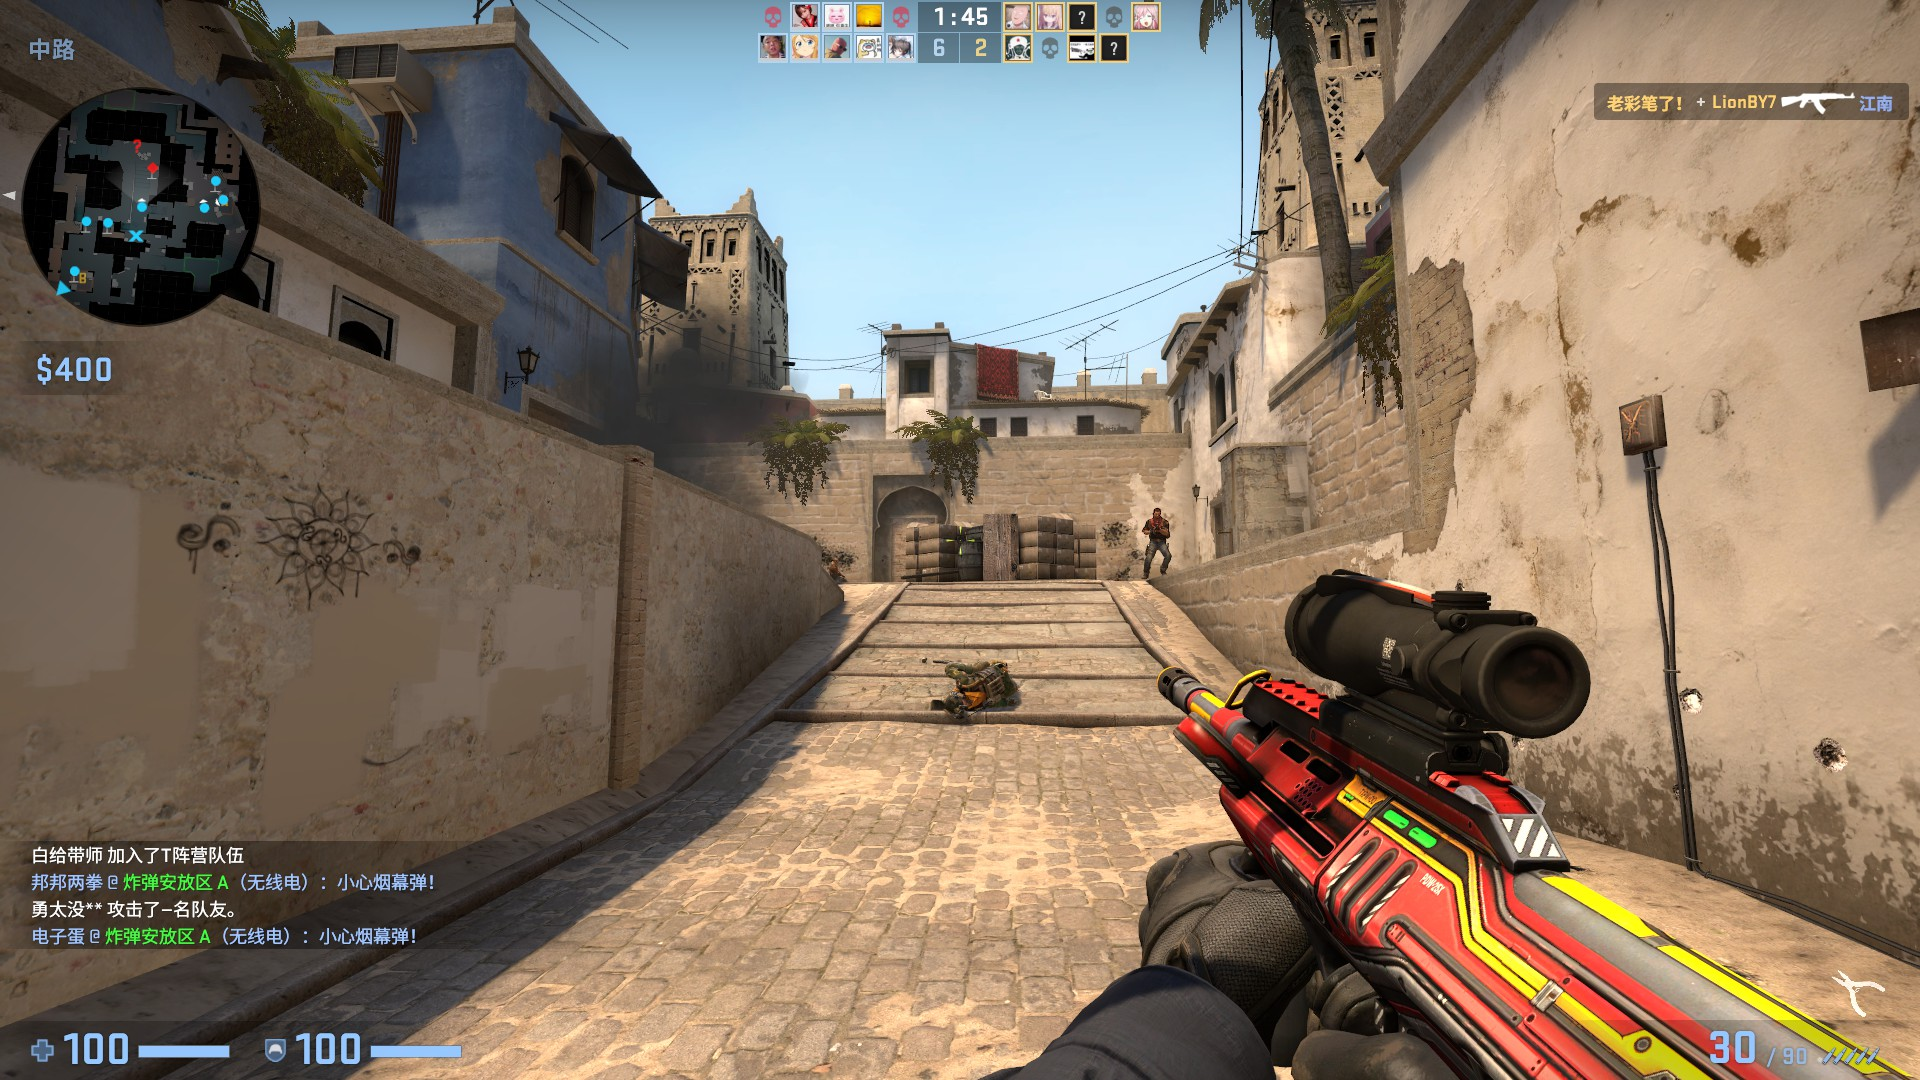head: (941, 692, 967, 717), (1151, 506, 1162, 519), (832, 556, 839, 564)
